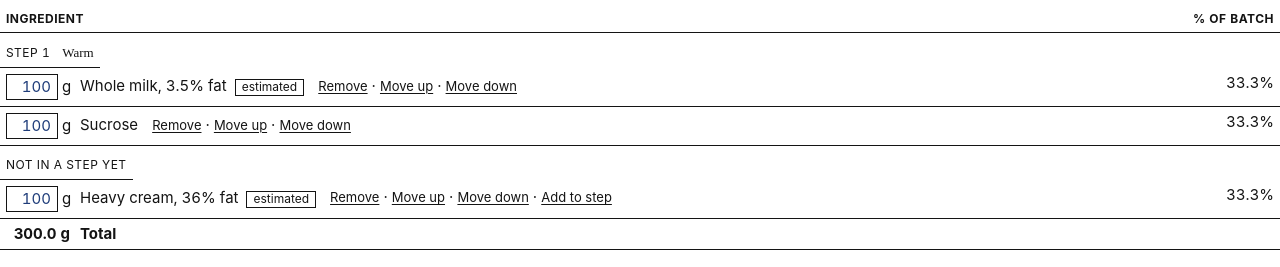
Test: IngredientTable, creating: the acts line (STRUCT-01 to STRUCT-03, D-15 to D-17) › the chooser reads Cancel, then one control per step by number and lead-in, Step n alone with no lead-in
This screenshot has width=1280, height=267.
Click the button "Add to step" at (577, 198), box [541,186,612,210]
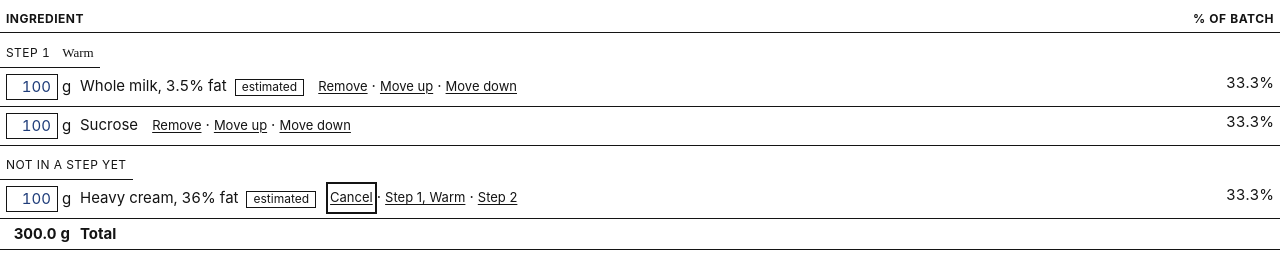
Check: the element with class "mk-row-acts" reads "Cancel · Step 1, Warm · Step 2", box [330,187,517,206]
